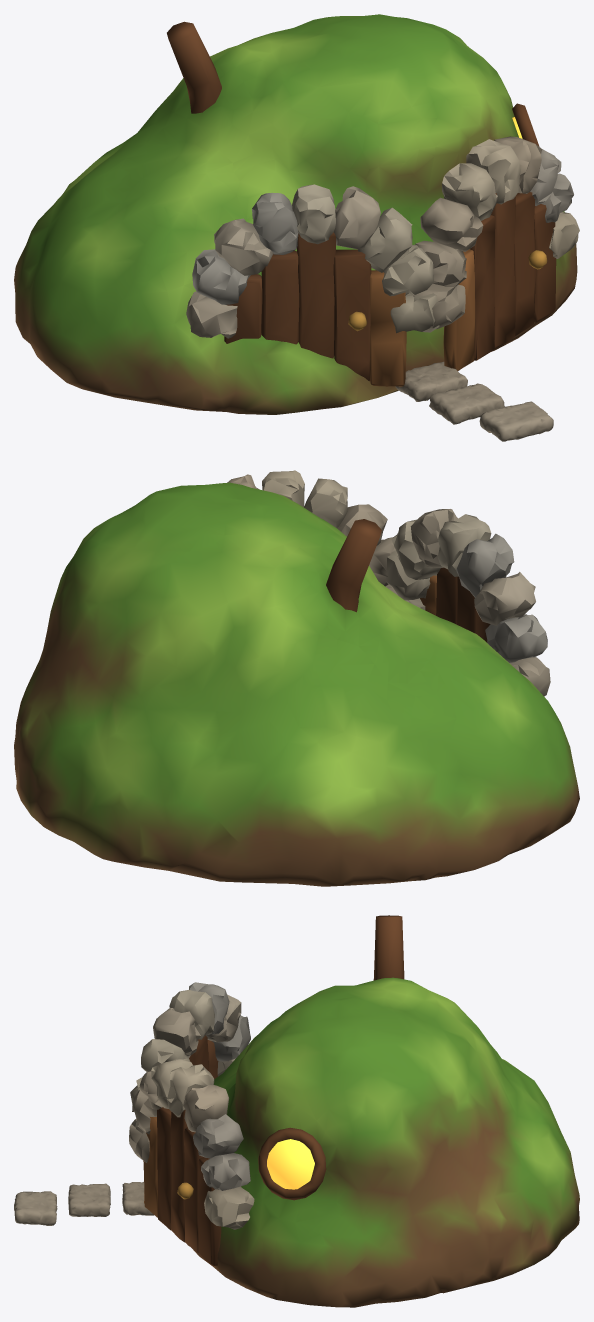
File: glade_warren_burrow_b.glb
3 renders of one model, top to bottom at view 1: azimuth 30°, elevation 25°; view 2: azimuth 150°, elevation 25°; view 3: azimuth 270°, elevation 25°, orthographic. The views are drawn at different scales.
Visible parts, largest first — view 1: glade_warren_burrow_b; view 2: glade_warren_burrow_b; view 3: glade_warren_burrow_b.
Boxes of the visible parts, x1,y1,x2,y2 form: glade_warren_burrow_b: (14, 14, 579, 441); glade_warren_burrow_b: (14, 470, 579, 886); glade_warren_burrow_b: (14, 915, 579, 1307).
Size of the model in its own units: 8.18 by 4.4 by 9.09.
